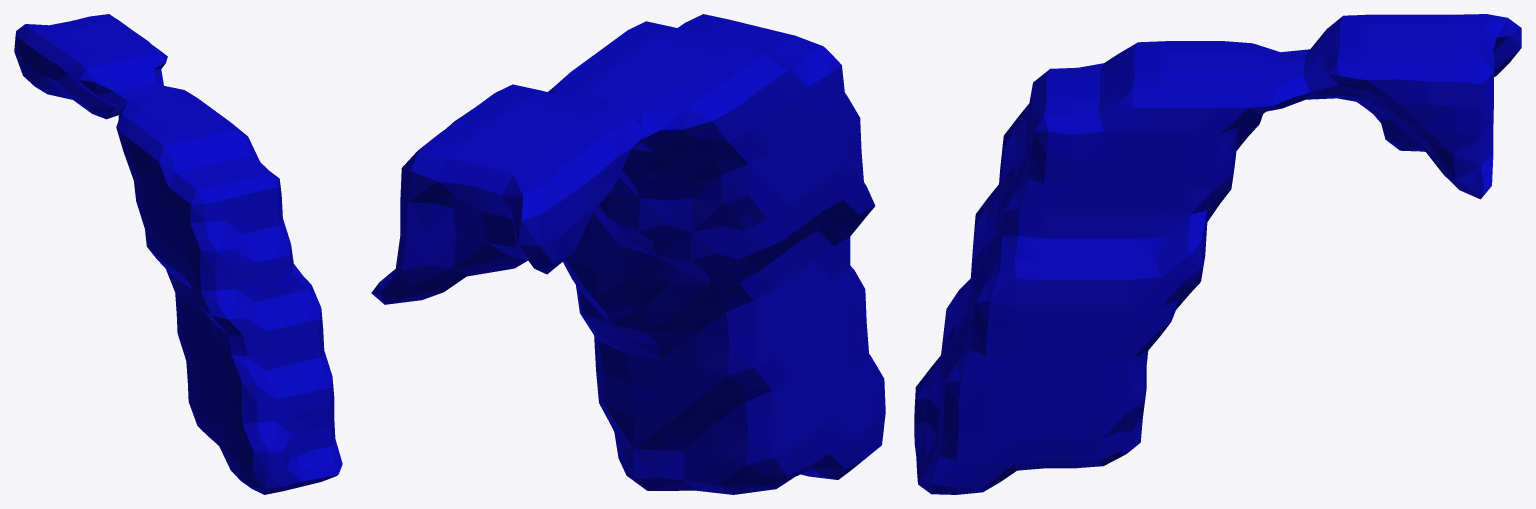
File: aseg_254_CC_Mid_Anterior.glb
The picture shows the model from 3 angles, left to right: view 1: azimuth 30°, elevation 25°; view 2: azimuth 150°, elevation 25°; view 3: azimuth 270°, elevation 25°; orthographic projection. The views are drawn at different scales.
Size of the model in its own units: 6 by 16 by 20.73.
